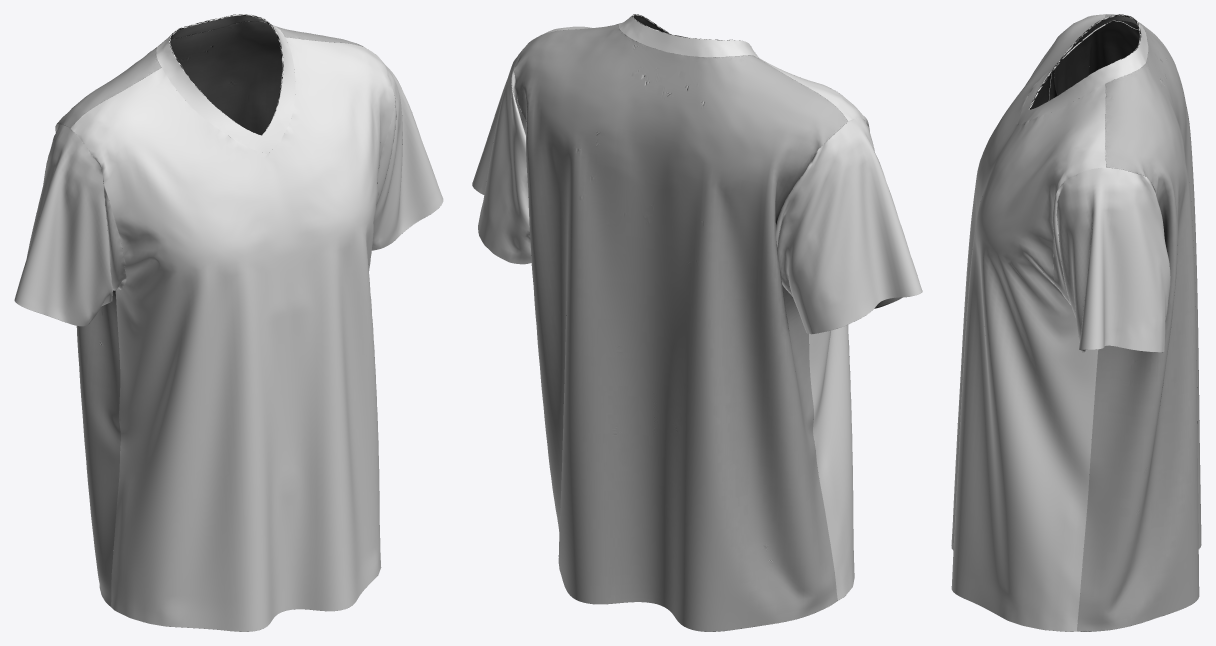
Rendered from shirt.glb.
The picture shows the model from 3 angles, left to right: view 1: azimuth 30°, elevation 25°; view 2: azimuth 150°, elevation 25°; view 3: azimuth 270°, elevation 25°; orthographic projection. The views are drawn at different scales.
Parts seen in each view (by area): view 1: front, right_sleeve, back, shirt_interior, left_sleeve, neck_rim; view 2: back, right_sleeve, front, left_sleeve, neck_rim; view 3: front, back, left_sleeve, shirt_interior, neck_rim.
Part boxes in pixels (left/top/right/bottom): front: left=70, top=37, right=395, bottom=631; right_sleeve: left=14, top=124, right=126, bottom=326; back: left=57, top=21, right=364, bottom=606; shirt_interior: left=103, top=14, right=430, bottom=622; left_sleeve: left=371, top=60, right=443, bottom=250; neck_rim: left=156, top=14, right=295, bottom=154; back: left=513, top=23, right=848, bottom=631; right_sleeve: left=776, top=117, right=922, bottom=334; front: left=530, top=26, right=869, bottom=600; left_sleeve: left=472, top=42, right=531, bottom=264; neck_rim: left=619, top=14, right=758, bottom=57; front: left=951, top=14, right=1105, bottom=631; back: left=1077, top=14, right=1201, bottom=631; left_sleeve: left=1052, top=167, right=1170, bottom=352; shirt_interior: left=951, top=14, right=1201, bottom=631; neck_rim: left=1018, top=14, right=1148, bottom=124.
Bounding box in the file's own units: 0.5697 × 0.6845 × 0.2888.
Materials: 4 (2 with a texture image).
